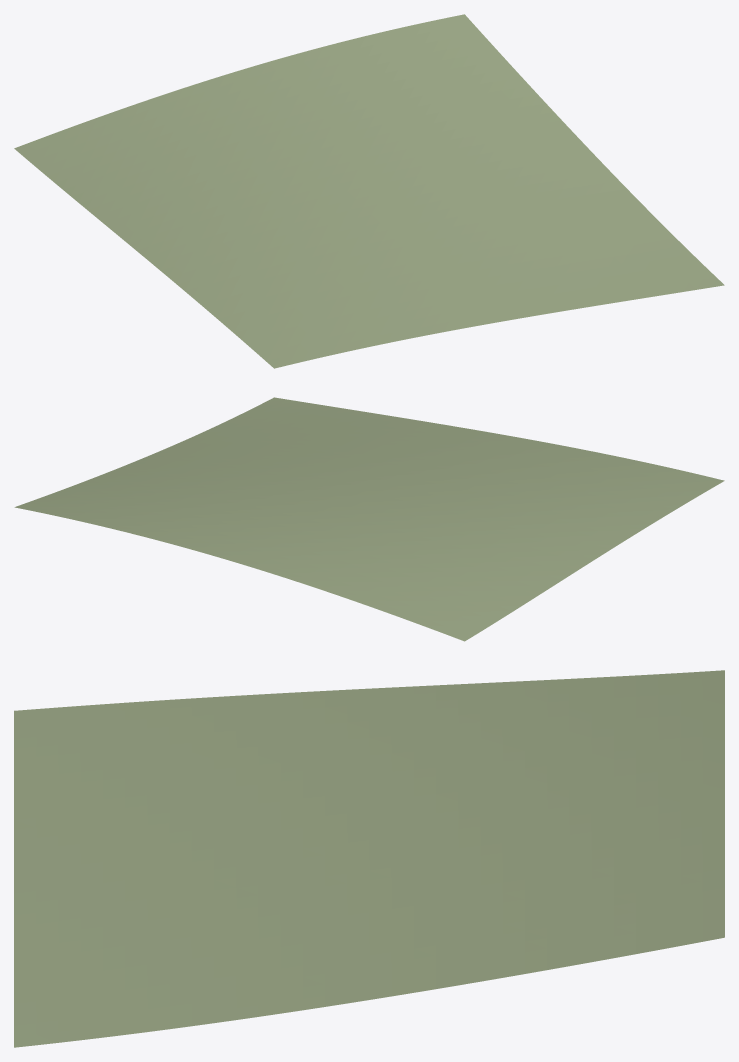
File: alpine-13-14.glb
The picture shows the model from 3 angles, top to bottom: view 1: azimuth 30°, elevation 25°; view 2: azimuth 150°, elevation 25°; view 3: azimuth 270°, elevation 25°; orthographic projection. The views are drawn at different scales.
Parts seen in each view (by area): view 1: alpine-13-14; view 2: alpine-13-14; view 3: alpine-13-14.
Part boxes in pixels (x1,y1,x2,y2): alpine-13-14: (14, 14, 724, 368); alpine-13-14: (14, 397, 724, 641); alpine-13-14: (14, 670, 724, 1047).
Bounding box in the file's own units: 256 × 45.06 × 256.
